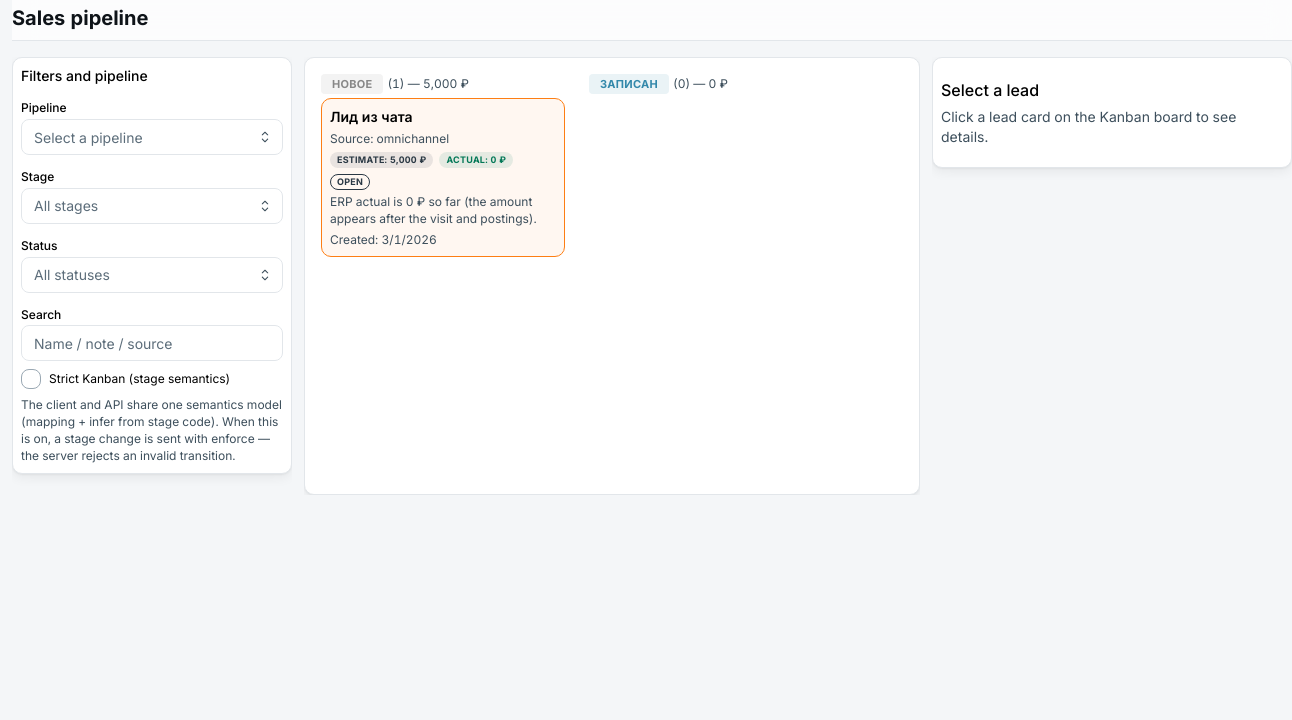
Test case: AdminSalesPipelinePage Kanban › shows lead details and notes when a lead card is clicked
This screenshot has width=1292, height=720.
Click the text "Лид из чата" at (371, 116), box [330, 108, 412, 125]
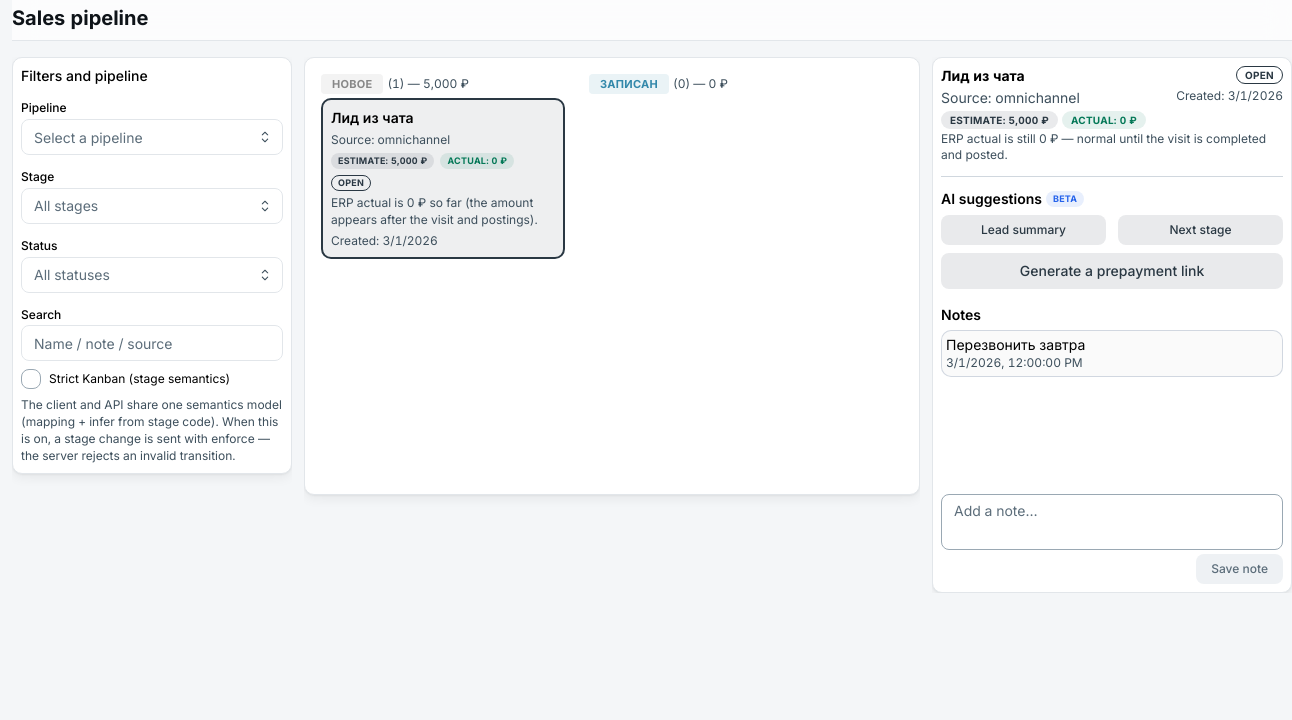
Now the text "Перезвонить завтра" is shown, box [946, 336, 1085, 353]
Now the text box with placeholder "Add a note…" is shown, box [941, 494, 1283, 550]
Now the button "Save note" is shown, box [1196, 554, 1283, 584]
